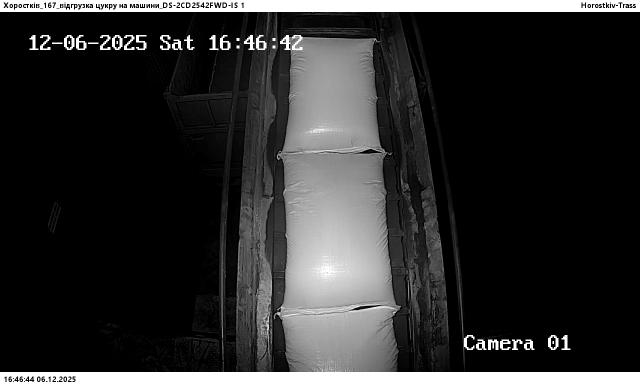bag: (279, 152, 400, 314), (282, 37, 381, 152), (280, 306, 399, 372)
